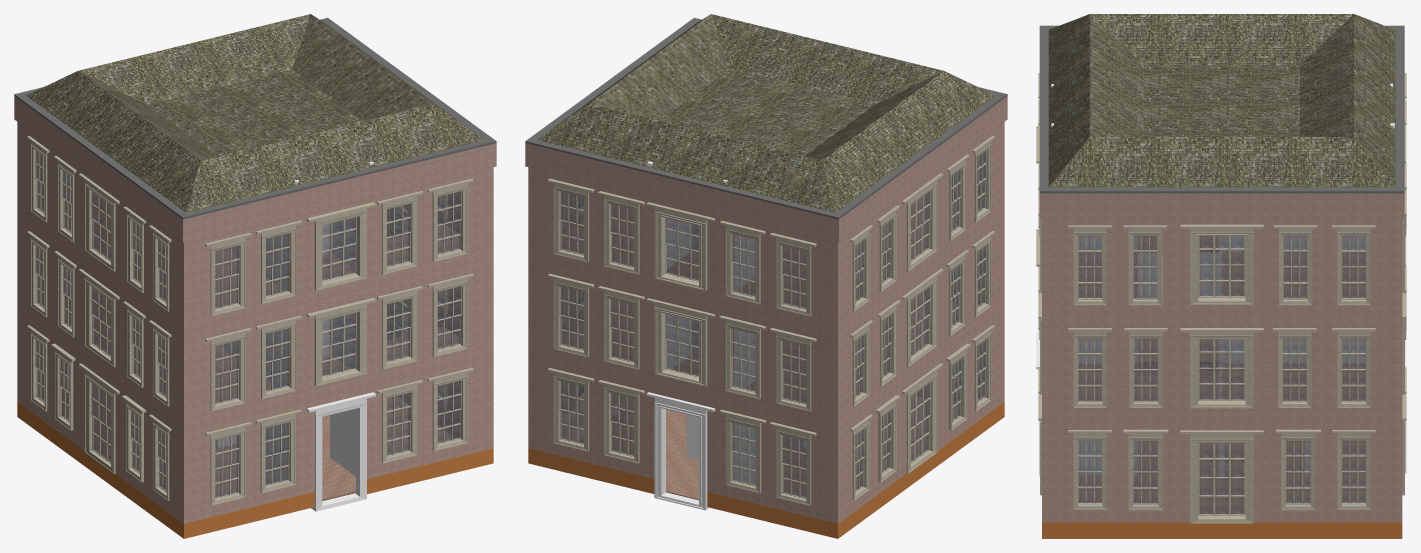
File: tka12.fbx
3 renders of one model, left to right at view 1: azimuth 30°, elevation 25°; view 2: azimuth 150°, elevation 25°; view 3: azimuth 270°, elevation 25°, orthographic. The views are drawn at different scales.
Parts seen in each view (by area): view 1: Plane.006; view 2: Plane.006; view 3: Plane.006.
Boxes of the visible parts, bbox=[...] form: Plane.006: bbox=[14, 14, 496, 538]; Plane.006: bbox=[525, 14, 1007, 538]; Plane.006: bbox=[1036, 14, 1406, 538].
Bounding box in the file's own units: 756 × 813 × 707.
Materials: 9 (5 with a texture image).
